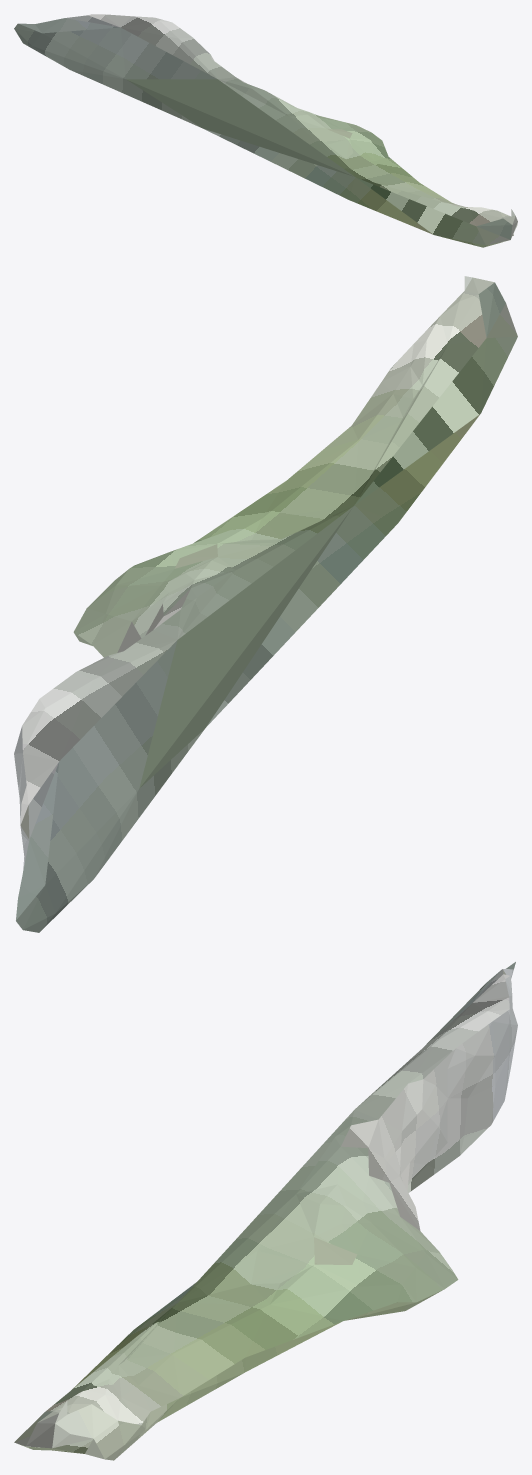
3 views of the same model, one above another, from view 1: azimuth 30°, elevation 25°; view 2: azimuth 150°, elevation 25°; view 3: azimuth 330°, elevation 25° (orthographic). The views are drawn at different scales.
Bounding box in the file's own units: 0.0769 × 0.0346 × 0.3248.
Materials: 1 (1 with a texture image).
